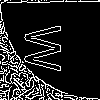W: (25, 25, 70, 72)
